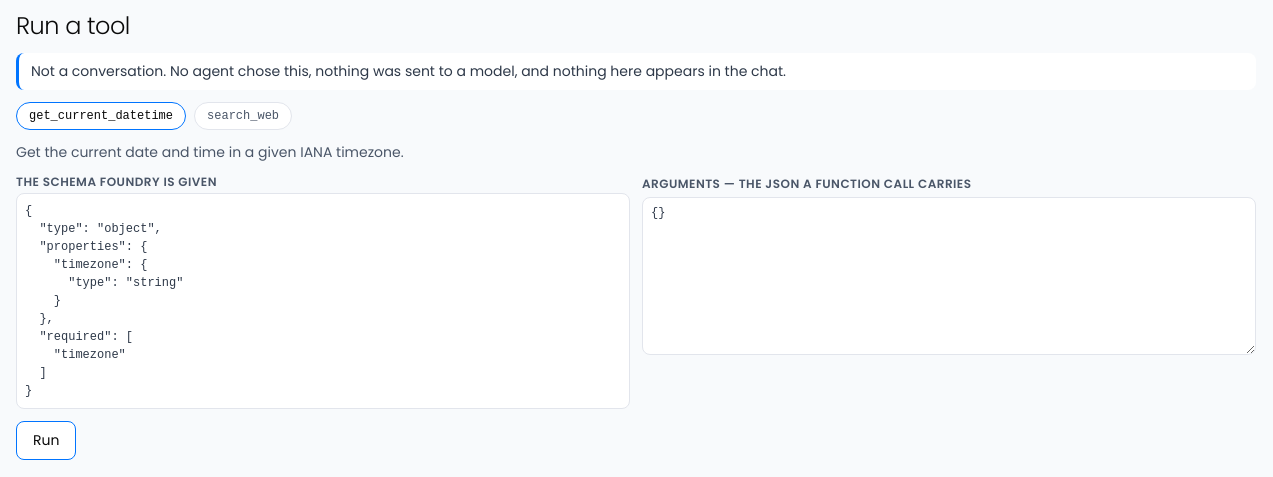
Test: the tools and their schemas (AC1, AC2) › switches schema when another tool is chosen
Click the button "search_web" at point(243, 116), box [194,102,292,130]
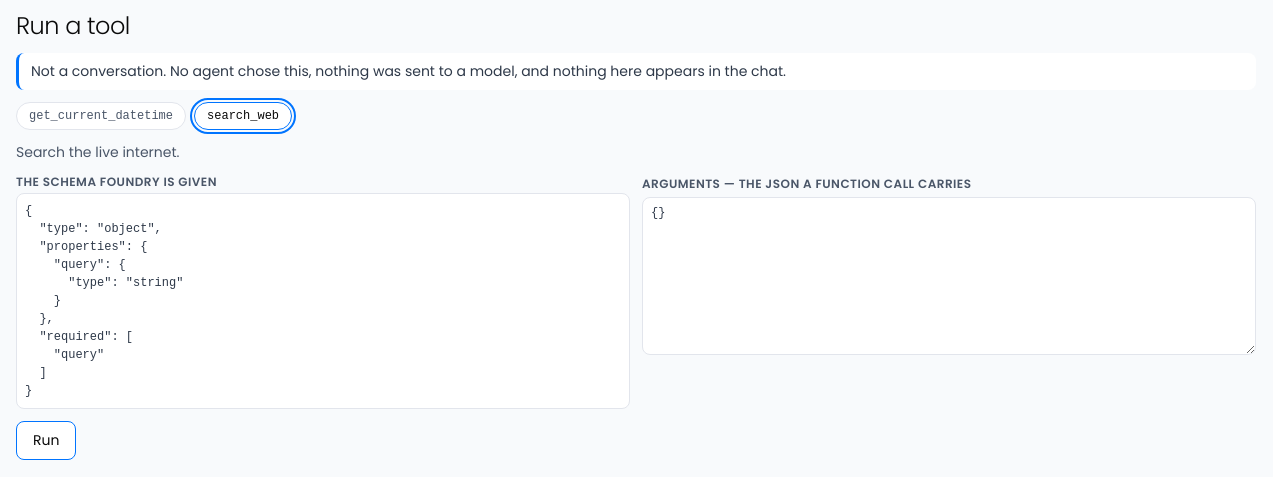
Result: the text with test id "tool-schema" shows "query" at [25,204,183,398]
